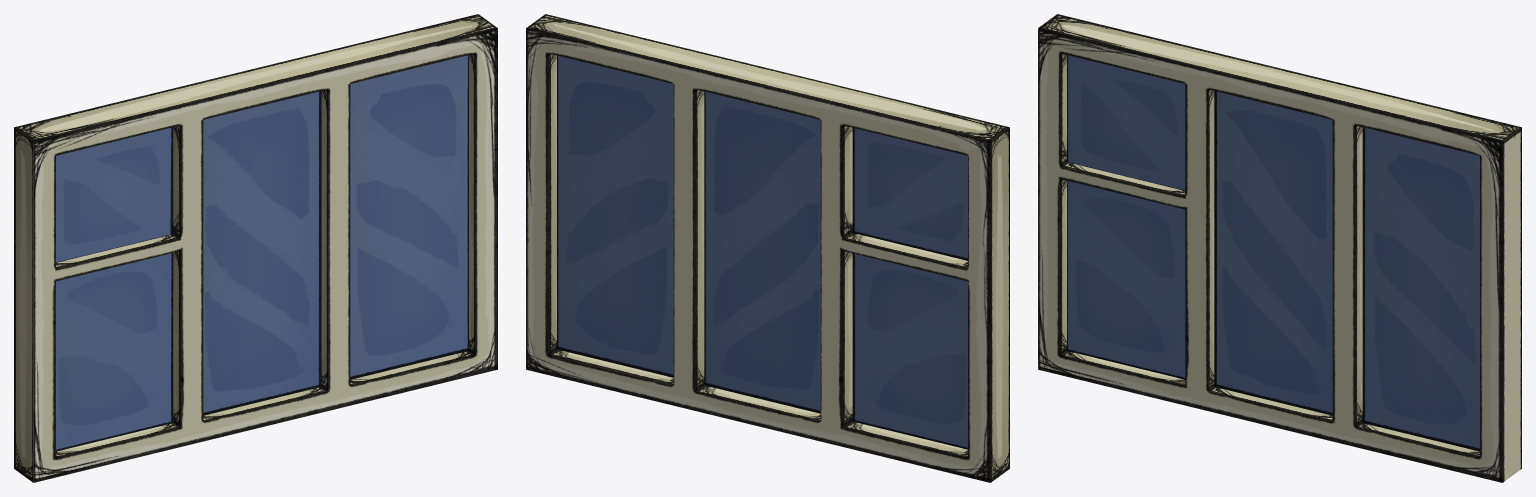
The model's file is window.fbx.
3 renders of one model, left to right at view 1: azimuth 30°, elevation 25°; view 2: azimuth 150°, elevation 25°; view 3: azimuth 330°, elevation 25°, orthographic.
Parts seen in each view (by area): view 1: windows glass, window; view 2: windows glass, window; view 3: windows glass, window.
Part boxes in pixels (x1,y1,x2,y2): windows glass: (56, 55, 468, 451); window: (14, 14, 497, 482); windows glass: (557, 55, 967, 449); window: (526, 14, 1009, 482); windows glass: (1067, 55, 1479, 451); window: (1038, 14, 1521, 482).
Bounding box in the file's own units: 2.54 × 1.78 × 0.1824.
Materials: 2 (2 with a texture image).
